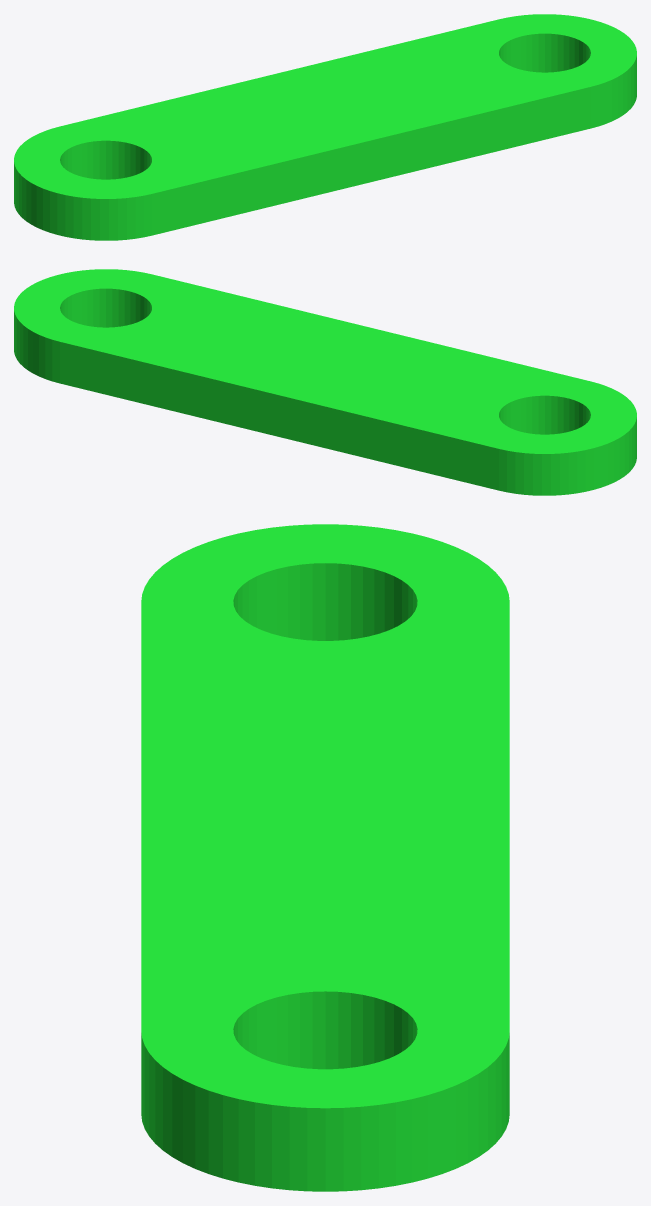
3 views of the same model, one above another, from view 1: azimuth 30°, elevation 25°; view 2: azimuth 150°, elevation 25°; view 3: azimuth 270°, elevation 25° (orthographic). The views are drawn at different scales.
Size of the model in its own units: 150 by 10 by 40.
